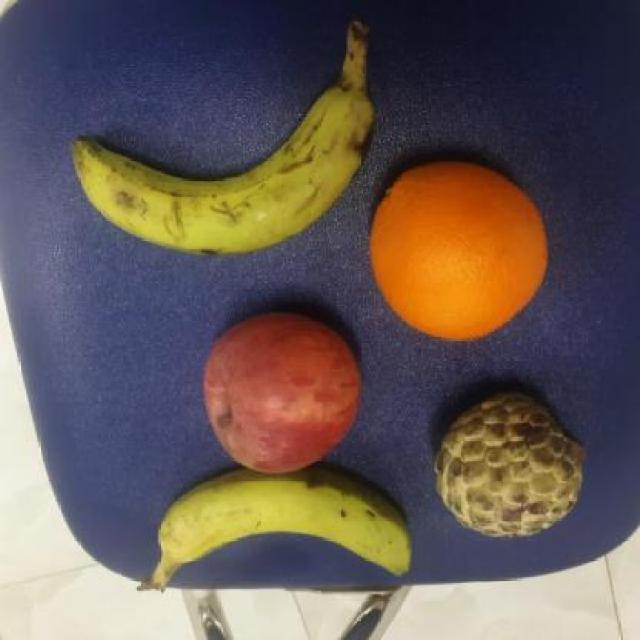apple: (201, 309, 365, 473)
banana: (70, 82, 376, 262), (149, 468, 420, 587)
oren: (363, 163, 548, 343)
sugar apple: (431, 389, 587, 543)
